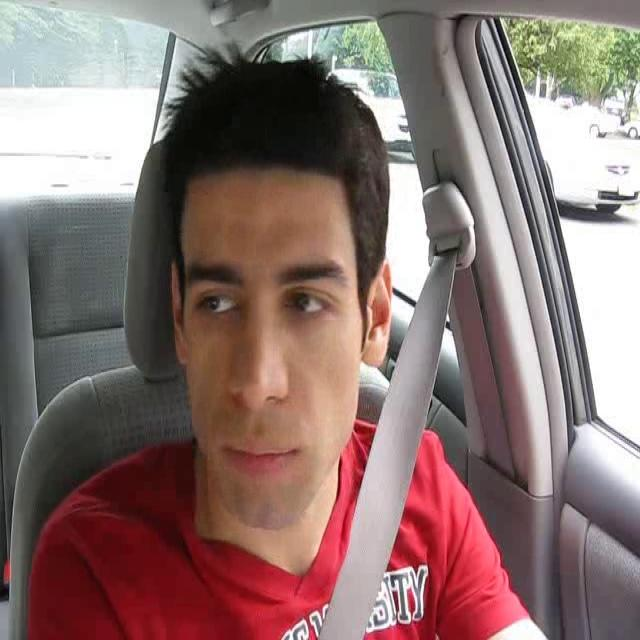close: (220, 430, 300, 474)
